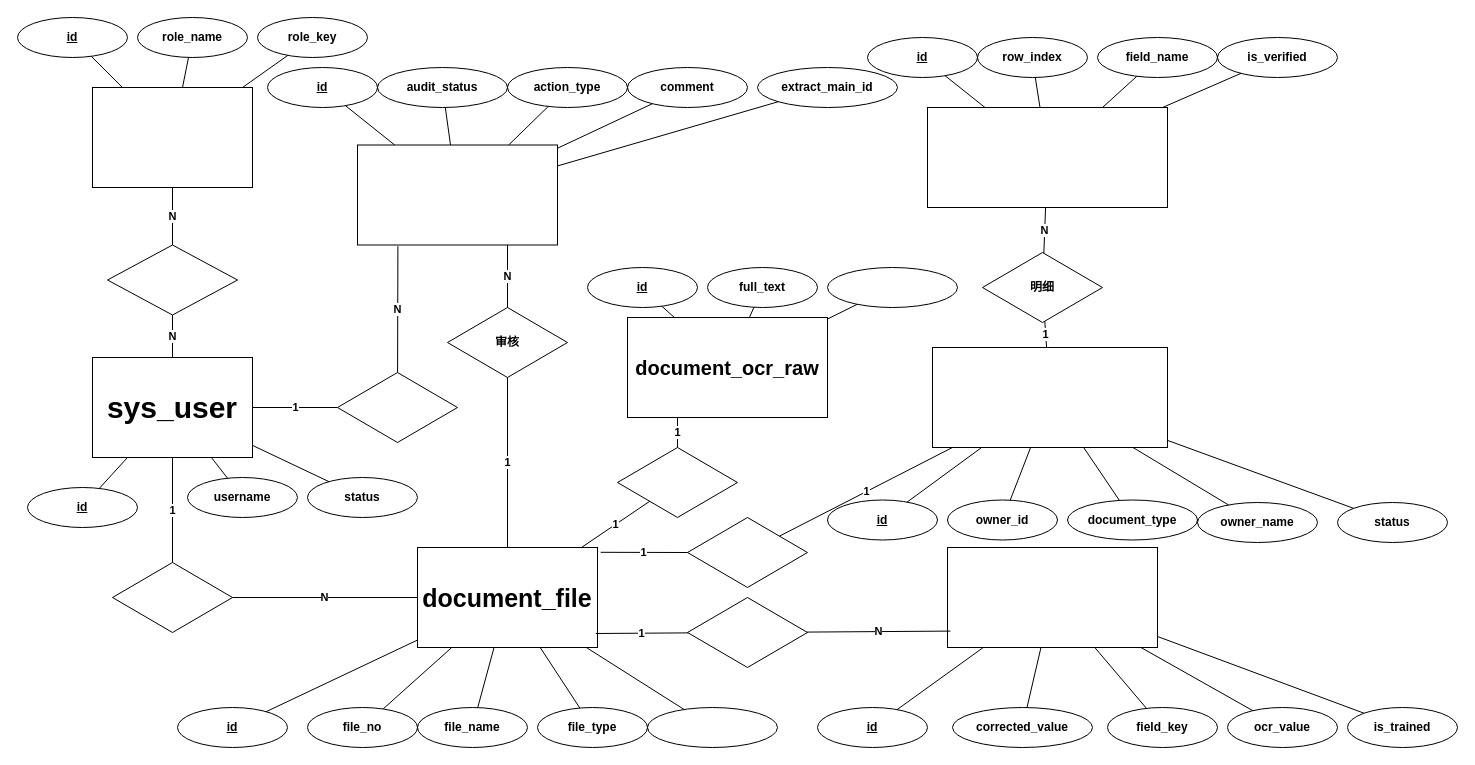
Some shapes in this 1475 by 765 pixel diagram are drawn without their labels. Each missing label, with the centre of its shape:
"ai_training_sample" belongs at point (1052, 597).
"audit_record" belongs at point (457, 194).
"avg_confidence" belongs at point (892, 287).
"document_extract_detail" belongs at point (1047, 157).
"document_extract_main" belongs at point (1050, 397).
"process_status" belongs at point (712, 727).
"sys_role" belongs at point (172, 137).
"上传" belongs at point (172, 597).
"分配" belongs at point (172, 279).
"执行" belongs at point (397, 407).
"抽取" belongs at point (747, 552).
"训练" belongs at point (747, 632).
"识别" belongs at point (677, 482).
